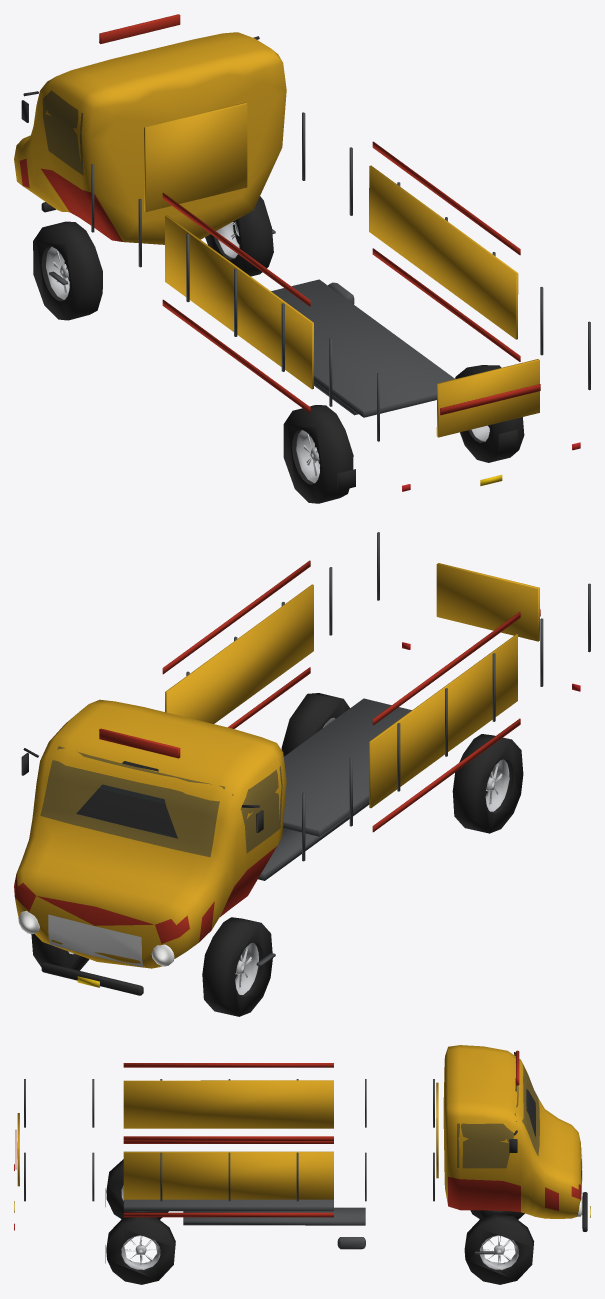
Rendered from lorry_1_lo.glb.
3 views of the same model, one above another, from view 1: azimuth 30°, elevation 25°; view 2: azimuth 150°, elevation 25°; view 3: azimuth 270°, elevation 25° (orthographic). The views are drawn at different scales.
Visible parts, largest first — view 1: body, wheel_0, wheel_2, wheel_1, wheel_3; view 2: body, wheel_0, wheel_2, wheel_3, wheel_1; view 3: body, wheel_1, wheel_3, wheel_2.
Part boxes in pixels (bbox=[...]): body: bbox=[14, 14, 590, 491]; wheel_0: bbox=[33, 221, 102, 320]; wheel_2: bbox=[283, 405, 353, 503]; wheel_1: bbox=[205, 196, 273, 276]; wheel_3: bbox=[455, 365, 524, 462]; body: bbox=[14, 532, 590, 995]; wheel_0: bbox=[202, 917, 272, 1016]; wheel_2: bbox=[452, 734, 523, 833]; wheel_3: bbox=[281, 693, 349, 756]; wheel_1: bbox=[31, 934, 89, 970]; body: bbox=[14, 1045, 590, 1263]; wheel_1: bbox=[464, 1214, 534, 1284]; wheel_3: bbox=[106, 1217, 175, 1284]; wheel_2: bbox=[106, 1159, 168, 1219].
Size of the model in its own units: 2.78 by 2.94 by 8.21.
